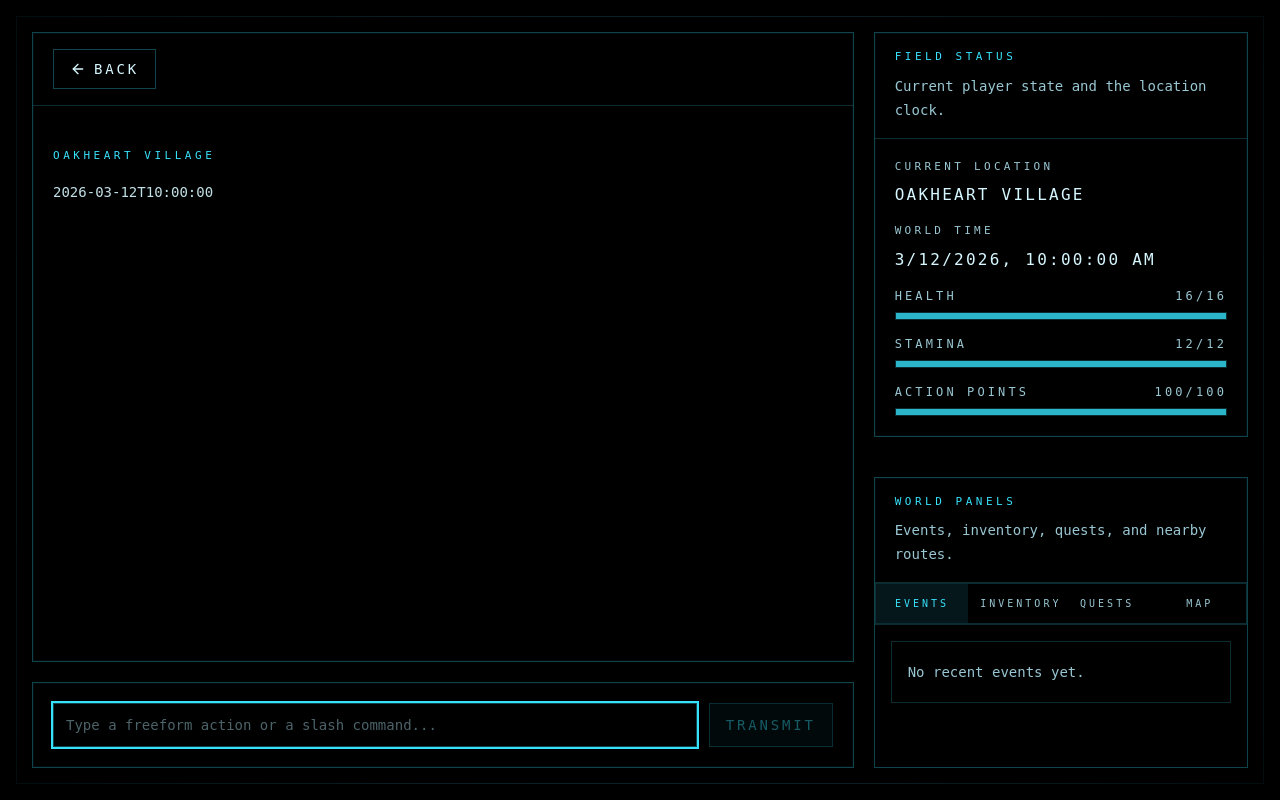
PlayScreen › keeps pending proposals out of the transcript and logs a confirmed action as one item
Type "talk mayor" into the field with placeholder "Type a freeform action or a slash command...".
click(375, 725); type("talk mayor")  # box [53,703,697,747]
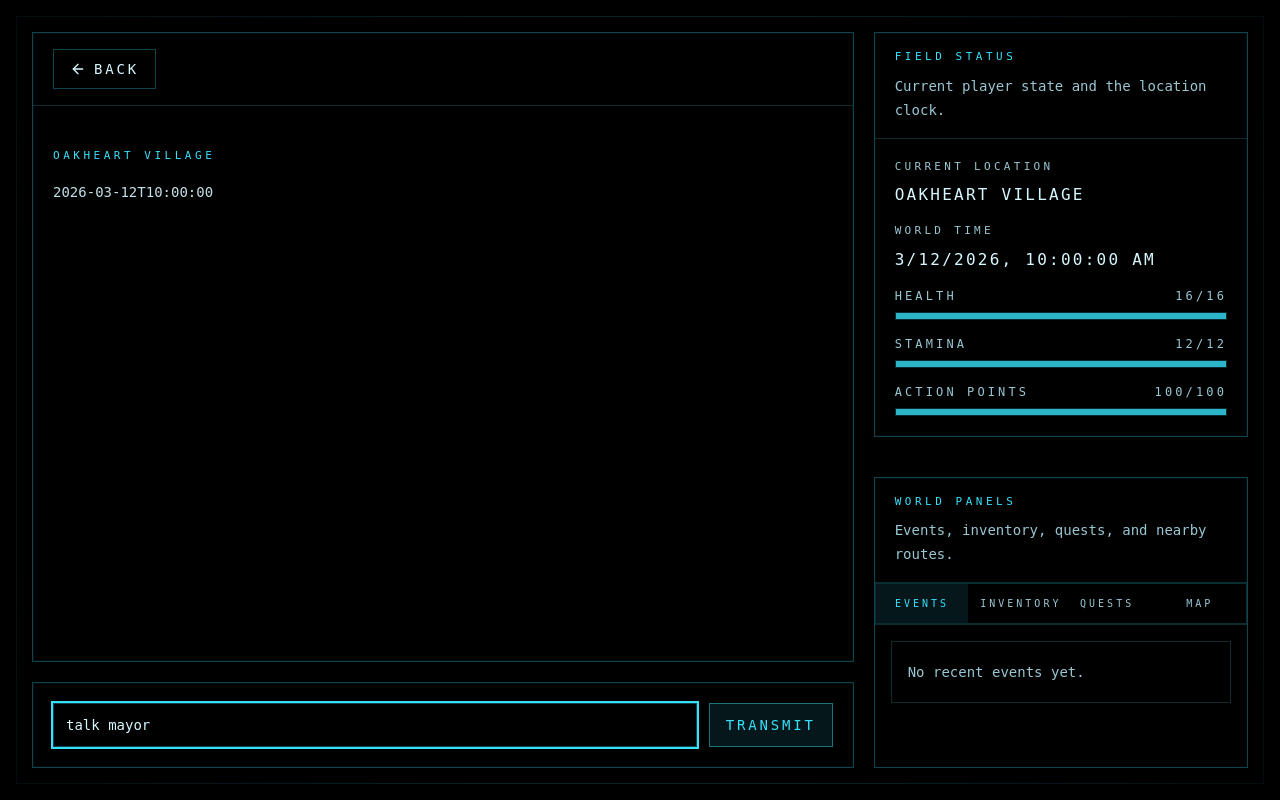
Submit the form, box [53,703,833,747]
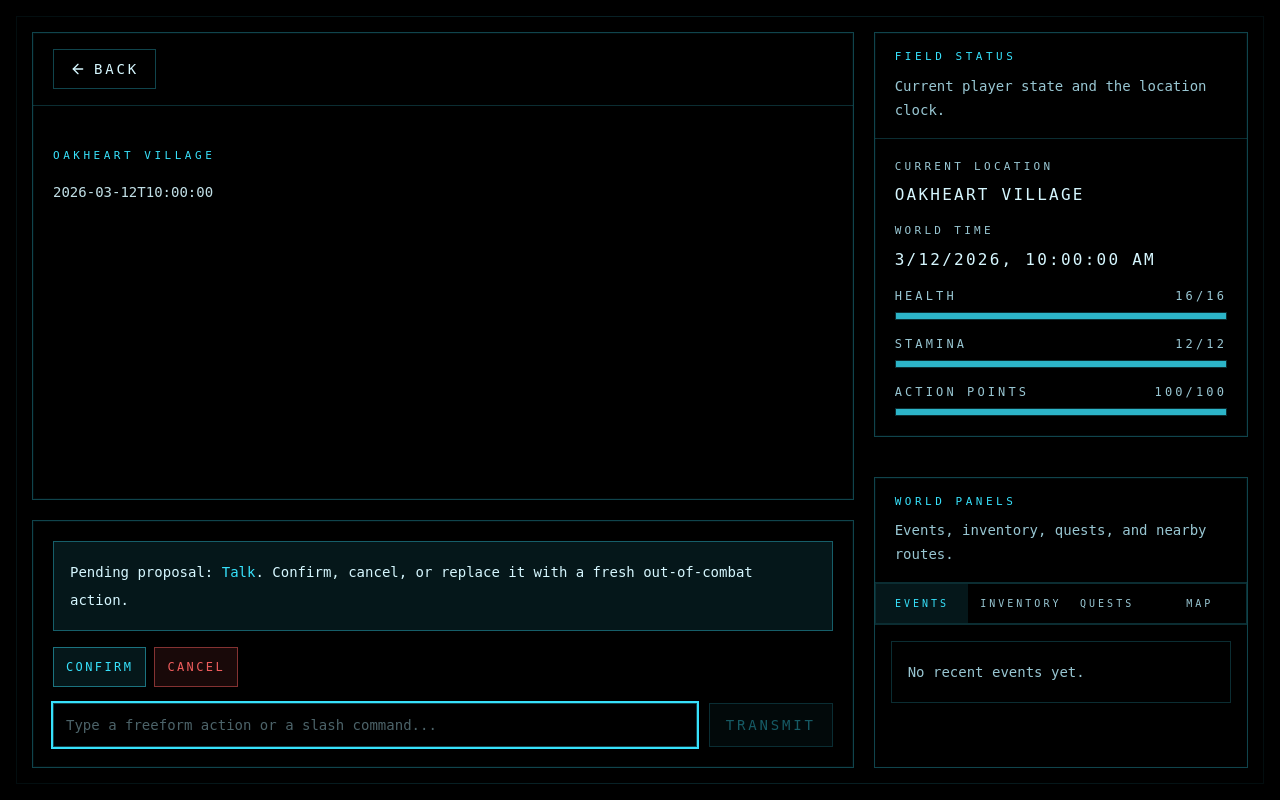
Expected: the text "talk mayor" is not shown
Expected: the text "Pending proposal" is shown, [70,564,213,580]
Expected: the button "Confirm" is shown
Click the button "Confirm".
click(100, 667)  # box [53,647,146,687]
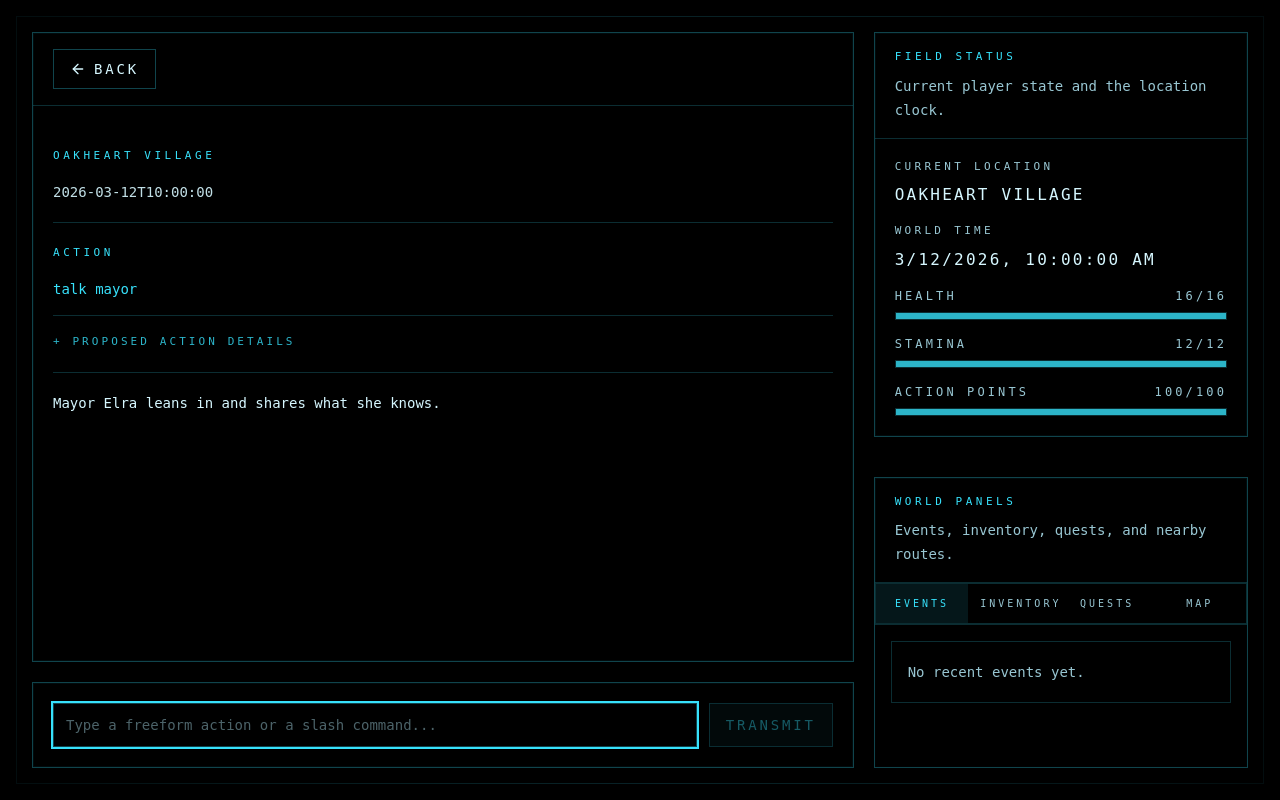
Expected: the text "Action" is shown, [53,246,114,259]
Expected: the text "talk mayor" is shown, [53,281,137,297]
Expected: the heading "Proposed action details" is shown, [72,335,296,348]
